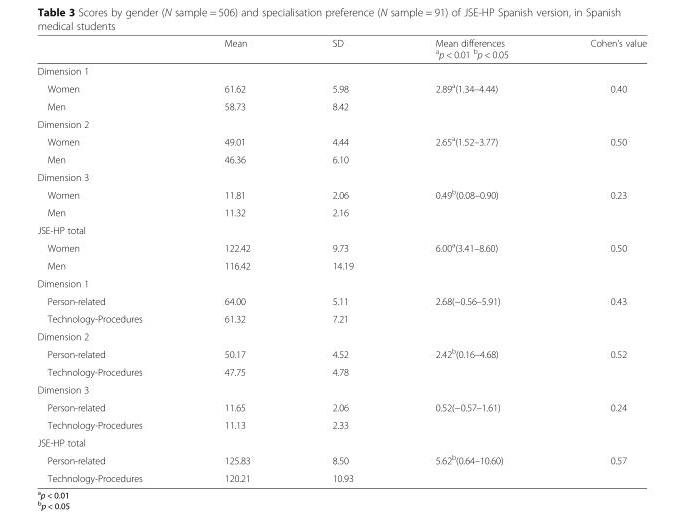table: (36, 37, 646, 483)
table column: (393, 37, 548, 483), (36, 37, 182, 483), (182, 37, 290, 483), (290, 37, 393, 483), (548, 37, 646, 483)
table column header: (36, 37, 646, 62)
table projected row header: (36, 114, 646, 131), (36, 221, 646, 238), (36, 274, 646, 291), (36, 327, 646, 344), (36, 380, 646, 397), (36, 433, 646, 450), (36, 62, 646, 78), (36, 168, 646, 184)
table row: (36, 37, 646, 62), (36, 78, 646, 97), (36, 131, 646, 150), (36, 184, 646, 203), (36, 150, 646, 168), (36, 203, 646, 221), (36, 238, 646, 256), (36, 256, 646, 274), (36, 291, 646, 309), (36, 309, 646, 327), (36, 344, 646, 362), (36, 362, 646, 380), (36, 397, 646, 415), (36, 415, 646, 433), (36, 450, 646, 468), (36, 97, 646, 114), (36, 114, 646, 131), (36, 221, 646, 238), (36, 274, 646, 291), (36, 327, 646, 344), (36, 380, 646, 397), (36, 433, 646, 450), (36, 62, 646, 78), (36, 168, 646, 184), (36, 468, 646, 483)
table spanning cell: (393, 131, 548, 168), (393, 184, 548, 221), (393, 78, 548, 114), (393, 238, 548, 274), (393, 291, 548, 327), (393, 344, 548, 380), (393, 397, 548, 433), (393, 450, 548, 483), (548, 131, 646, 168), (548, 184, 646, 221), (548, 78, 646, 114), (548, 238, 646, 274), (548, 291, 646, 327), (548, 344, 646, 380), (548, 397, 646, 433), (548, 450, 646, 483)
